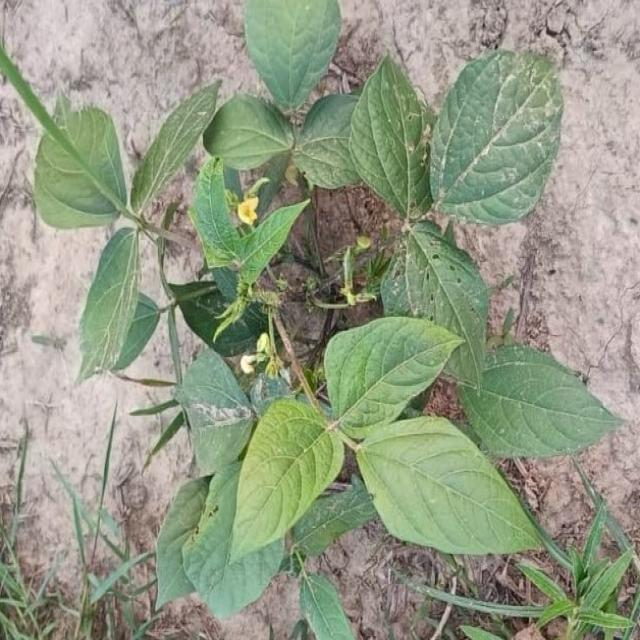plant: (0, 2, 619, 638)
